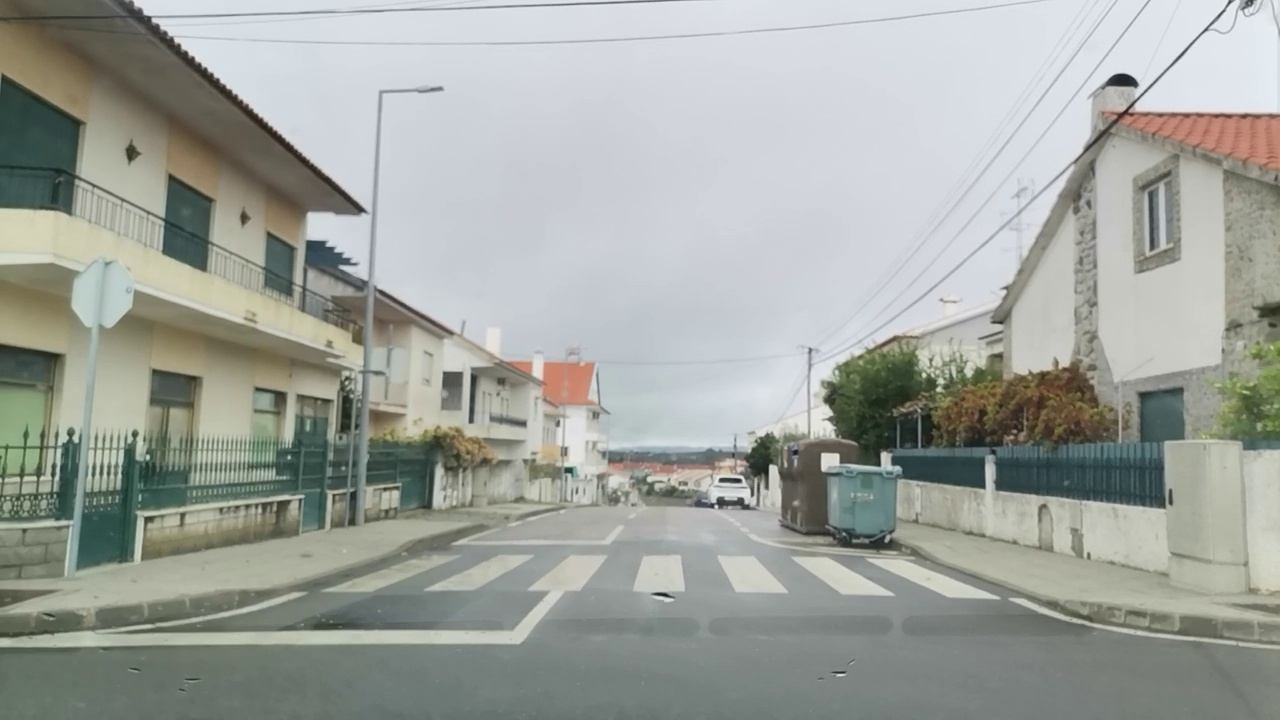Stairs: (326, 553, 1009, 601)
